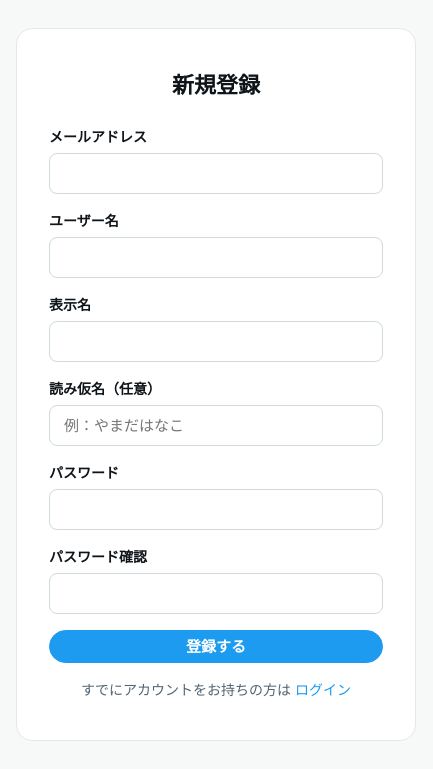
Test case: RegisterPage › 無効クラス（API がフィールドエラーを返す）→ フィールドごとのエラーが表示される
The width and height of the screenshot is (433, 769).
In the field labelled "メールアドレス": (216, 173) [49,152,383,194], type "new@example.com"
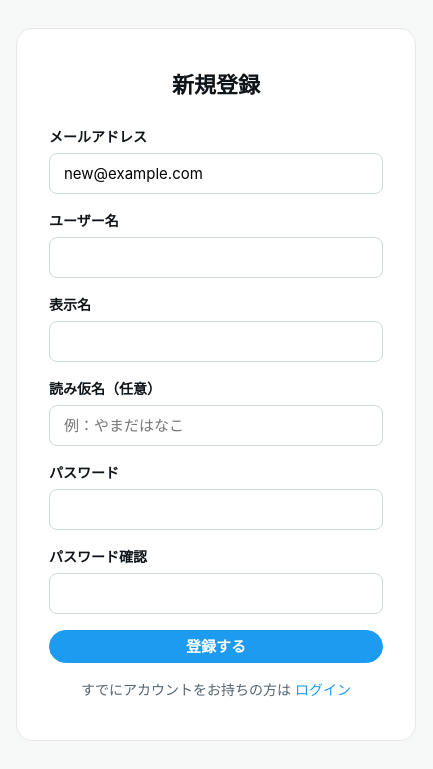
In the field labelled "ユーザー名": (216, 257) [49,236,383,278], type "newuser"
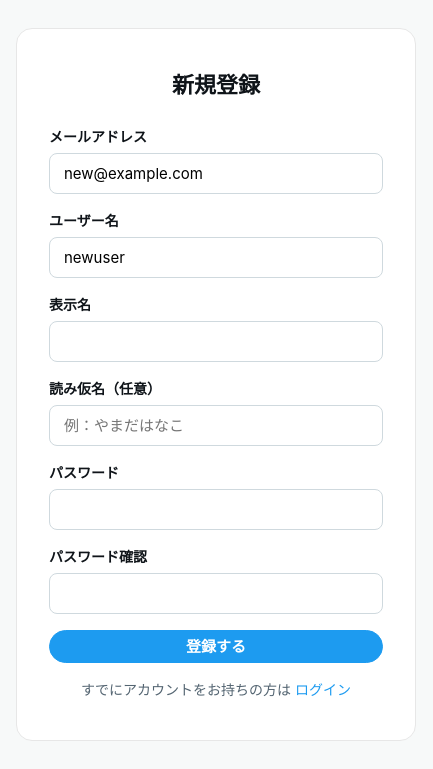
In the field labelled "表示名": (216, 341) [49,320,383,362], type "新規太郎"
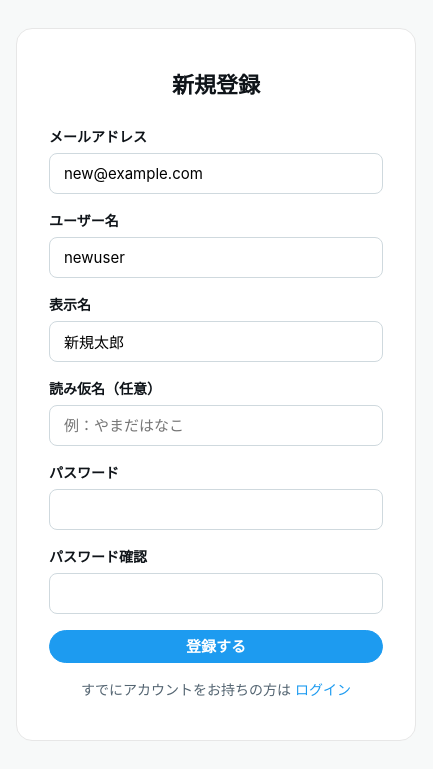
In the password field labelled "パスワード": (216, 509) [49,488,383,530], type "Pass1234"
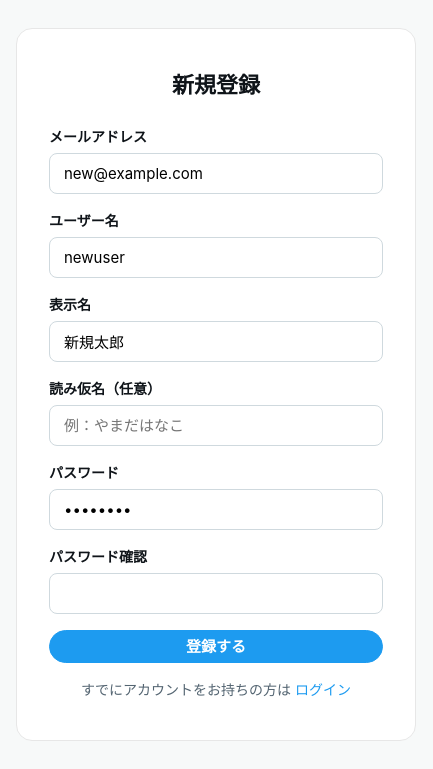
In the password field labelled "パスワード確認": (216, 593) [49,572,383,614], type "Pass1234"
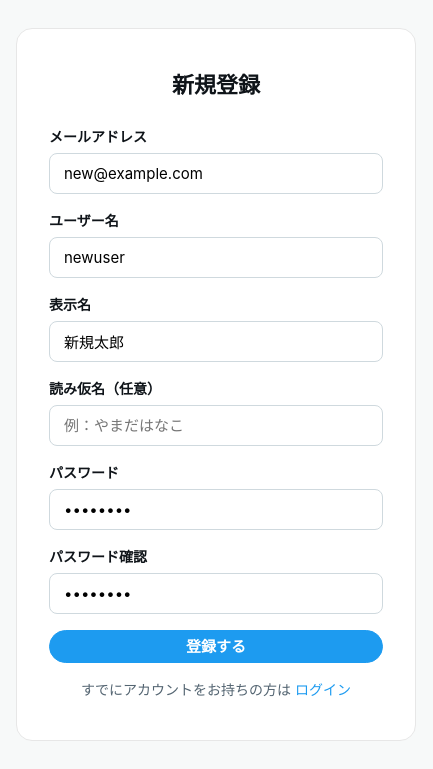
Click the button "登録する": (216, 646) [49,630,383,662]
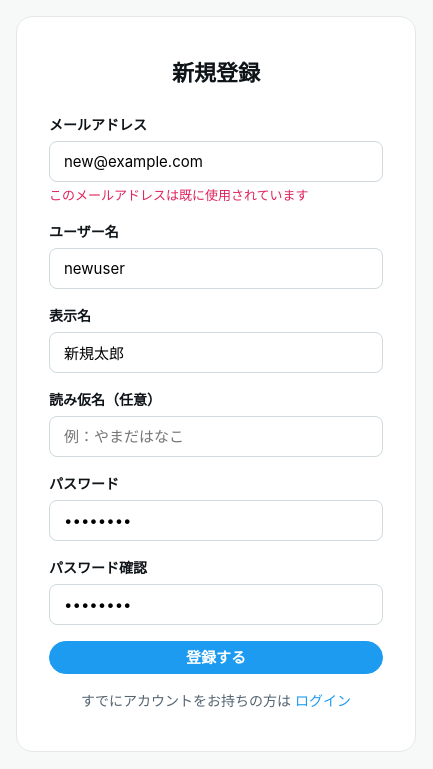
Expected: the text "このメールアドレスは既に使用されています" is shown, [49,187,309,203]
